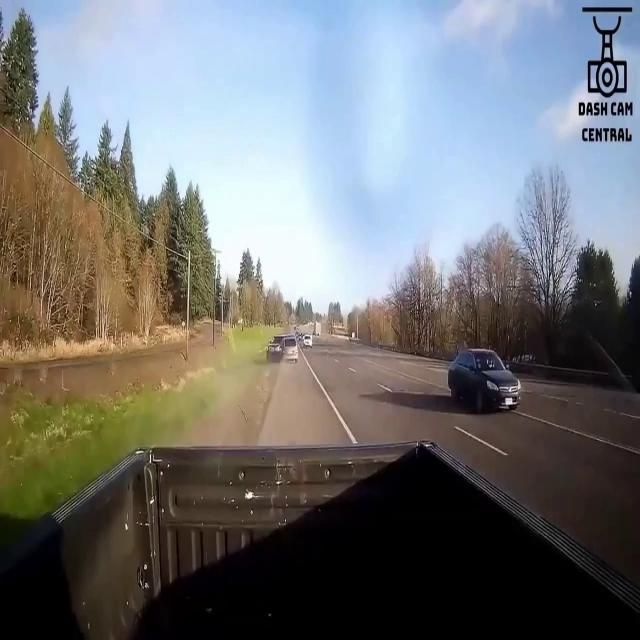accident: (265, 332, 299, 366)
